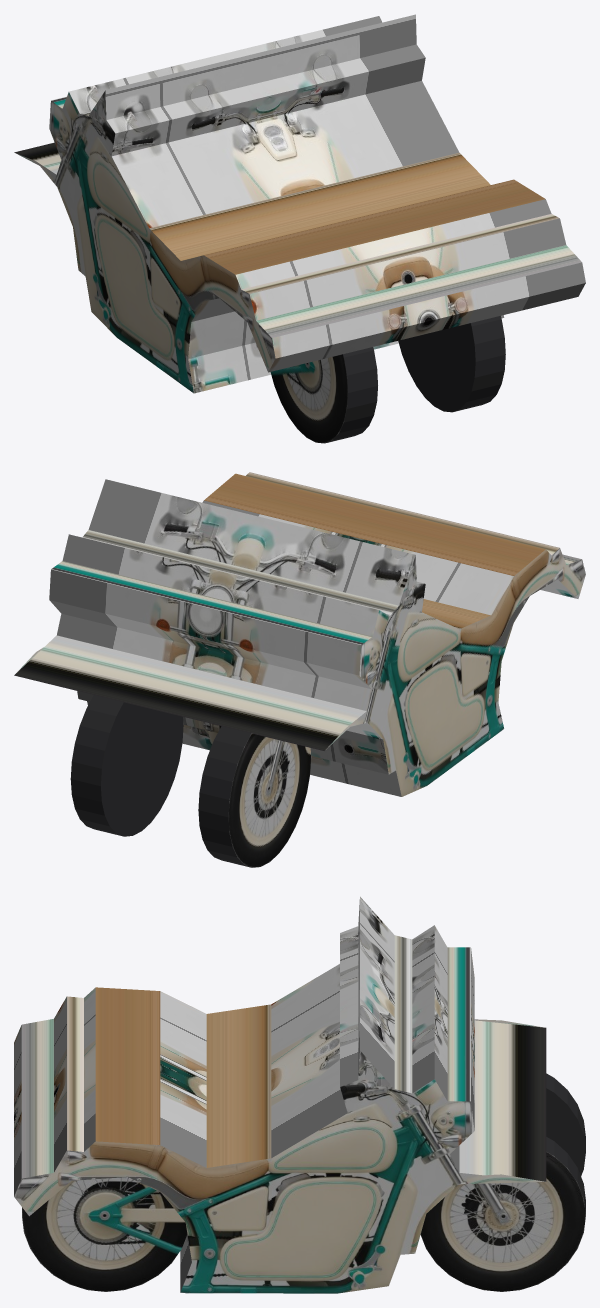
The model's file is motorcycle.glb.
3 views of the same model, one above another, from view 1: azimuth 30°, elevation 25°; view 2: azimuth 150°, elevation 25°; view 3: azimuth 270°, elevation 25° (orthographic).
Parts seen in each view (by area): view 1: motorcycle, wheel_BR, wheel_BL; view 2: motorcycle, wheel_FR, wheel_FL; view 3: motorcycle, wheel_FR, wheel_BR, wheel_FL.
Boxes of the visible parts, <box> form: motorcycle: <box>14,14,585,393</box>; wheel_BR: <box>398,316,505,412</box>; wheel_BL: <box>270,347,377,443</box>; motorcycle: <box>14,472,585,796</box>; wheel_FR: <box>70,695,183,836</box>; wheel_FL: <box>198,726,311,867</box>; motorcycle: <box>14,896,546,1293</box>; wheel_FR: <box>420,1137,585,1291</box>; wheel_BR: <box>22,1177,187,1291</box>; wheel_FL: <box>546,1073,585,1175</box>.
Bounding box in the file's own units: 1.4 × 1.18 × 2.2.
Materials: 3 (1 with a texture image).
